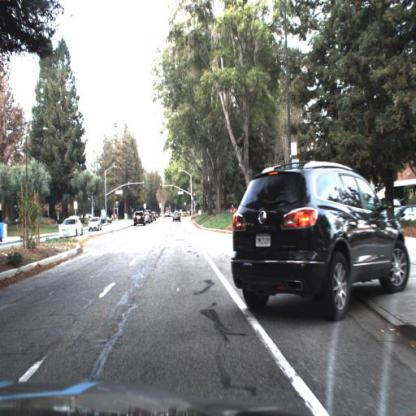car: (230, 154, 413, 323), (57, 213, 85, 241), (59, 216, 85, 237), (87, 215, 106, 233), (131, 210, 148, 228), (171, 209, 185, 224), (134, 212, 147, 228)
